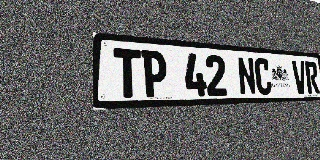2: (205, 54, 227, 96)
4: (184, 53, 207, 96)
C: (254, 58, 272, 95)
N: (237, 57, 256, 95)
P: (141, 50, 168, 97)
R: (304, 61, 320, 94)
T: (113, 48, 142, 98)
V: (291, 60, 308, 94)
